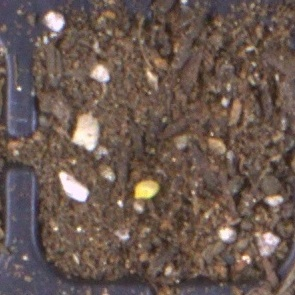chilli seed: (133, 180, 161, 200)
